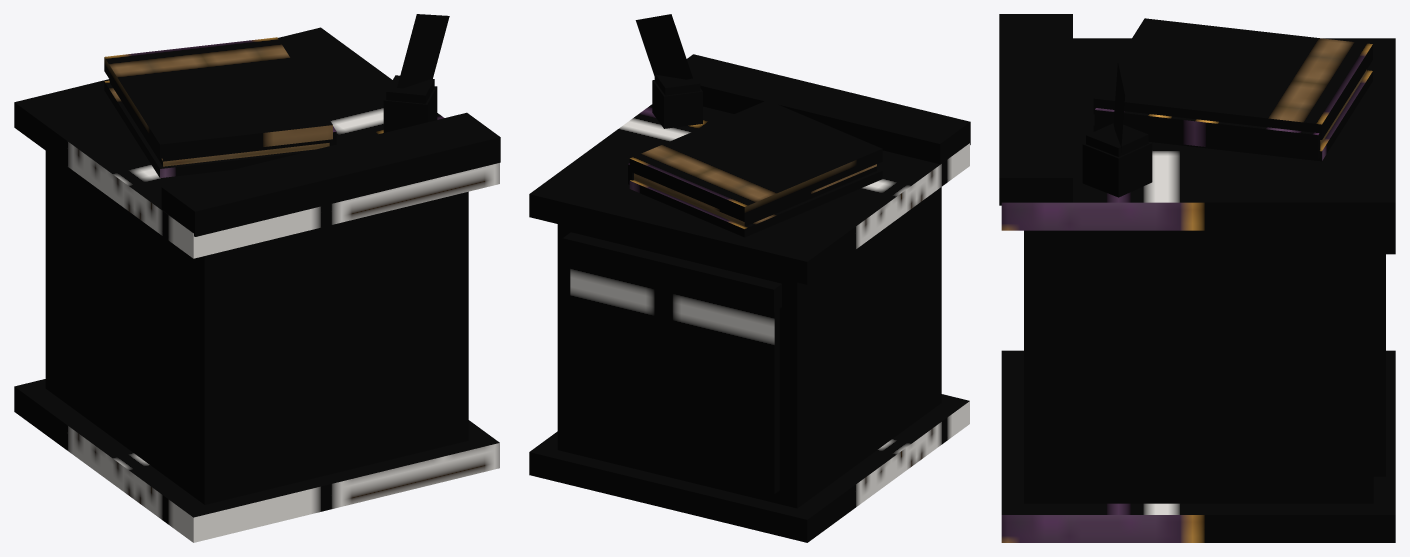
Rendered from claim_block.obj.
3 views of the same model, side by side, from view 1: azimuth 30°, elevation 25°; view 2: azimuth 150°, elevation 25°; view 3: azimuth 270°, elevation 25° (orthographic). The views are drawn at different scales.
Size of the model in its own units: 1.01 by 1.3 by 1.01.
